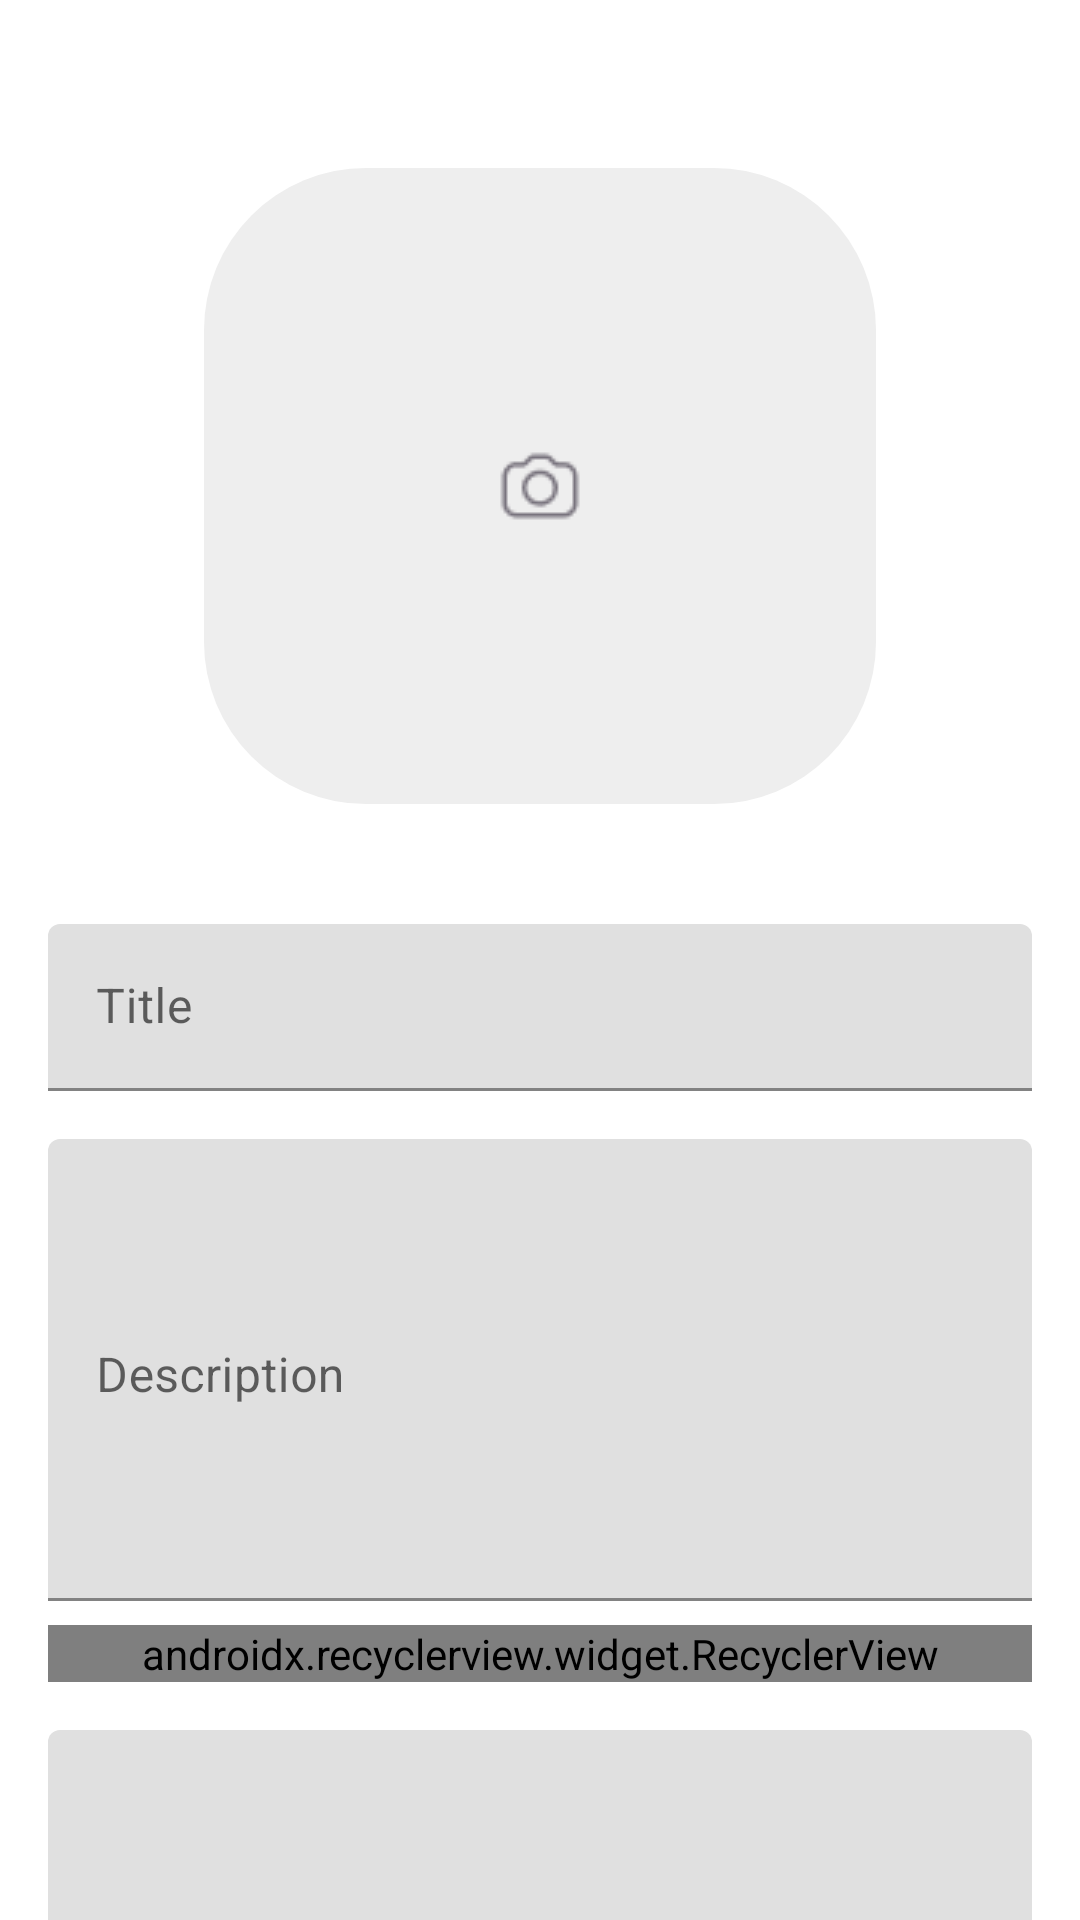

Icons on this 1080×1920 Android screen, each with the point to tap as point (x, y):
add photo: point (540, 486)
